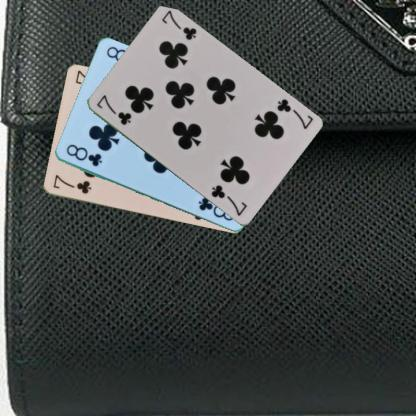7c: (274, 96, 314, 130), (94, 92, 132, 126), (50, 172, 92, 195)
8c: (63, 142, 103, 168)
